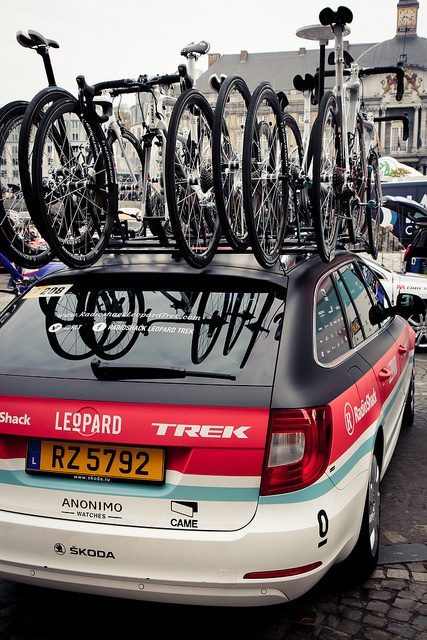non-vehicle: (311, 6, 404, 259), (2, 26, 70, 269), (108, 68, 180, 242), (36, 98, 109, 264), (76, 73, 144, 239), (166, 91, 218, 260), (251, 93, 299, 261), (214, 81, 252, 252), (364, 159, 381, 254)
